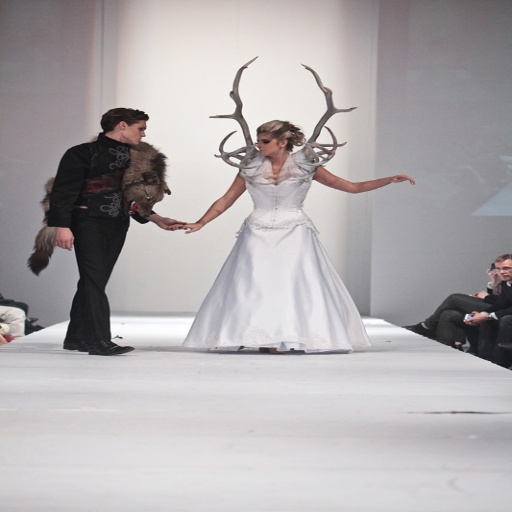hand: (51, 227, 79, 252), (461, 308, 489, 329), (155, 215, 185, 231), (166, 222, 201, 235), (387, 173, 416, 184), (466, 290, 489, 300)
